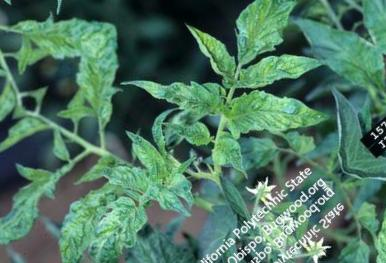Tomato leaf mosaic virus: (214, 51, 341, 178), (118, 37, 229, 149), (223, 17, 332, 124), (207, 0, 325, 81), (64, 190, 164, 263), (112, 119, 178, 187), (209, 130, 264, 187)
